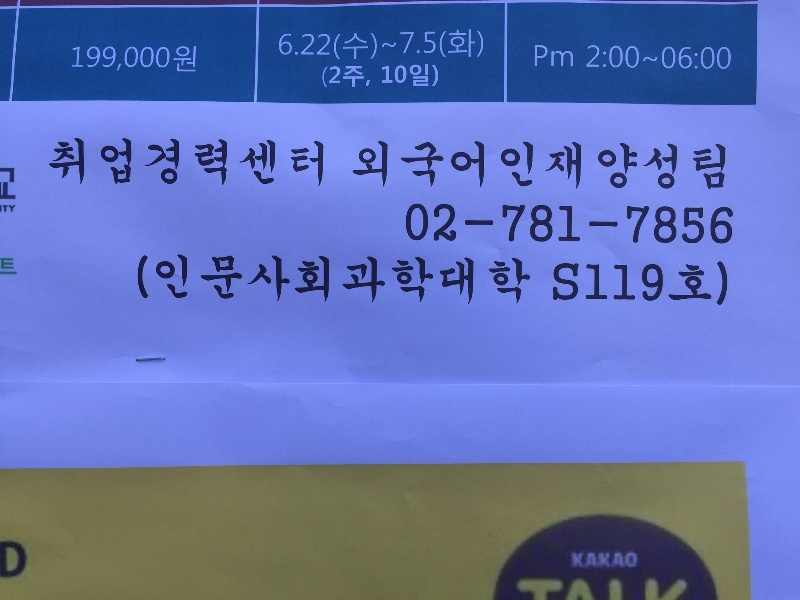text: (65, 137, 80, 189), (81, 137, 96, 189), (97, 137, 112, 189), (113, 137, 128, 189), (129, 137, 144, 189), (145, 137, 160, 189), (161, 137, 176, 189), (177, 137, 192, 189), (193, 137, 208, 189), (209, 137, 224, 189), (225, 137, 240, 189), (241, 137, 256, 189), (257, 137, 272, 189), (273, 137, 288, 189), (289, 137, 304, 189), (305, 137, 320, 189), (369, 140, 384, 192), (385, 140, 400, 192), (401, 140, 416, 192), (417, 140, 432, 192), (433, 140, 448, 192), (449, 140, 464, 192), (465, 140, 480, 192), (481, 140, 496, 192), (497, 140, 512, 192), (513, 140, 528, 192), (529, 140, 544, 192), (545, 140, 560, 192), (561, 140, 576, 192), (145, 254, 160, 305), (161, 254, 176, 305), (177, 254, 192, 305), (193, 254, 208, 305), (209, 254, 224, 305), (225, 254, 240, 305), (241, 254, 256, 305), (257, 254, 272, 305), (273, 254, 288, 305), (289, 254, 304, 305), (305, 254, 320, 305), (321, 254, 336, 305), (337, 254, 352, 305), (353, 254, 368, 305), (369, 254, 384, 305), (385, 254, 400, 305), (401, 254, 416, 305), (417, 254, 432, 305), (433, 254, 448, 305), (449, 254, 464, 305), (465, 254, 480, 305), (481, 254, 496, 305), (497, 254, 512, 305), (513, 254, 528, 305), (593, 142, 608, 191), (609, 142, 624, 191), (625, 142, 640, 191), (641, 142, 656, 191), (657, 142, 672, 191), (673, 142, 688, 191), (689, 142, 704, 191), (705, 142, 720, 191), (561, 262, 576, 308), (577, 262, 592, 308), (593, 262, 608, 308), (609, 262, 624, 308), (625, 262, 640, 308), (641, 262, 656, 308), (657, 262, 672, 308), (673, 262, 688, 308), (689, 262, 704, 308), (705, 262, 720, 308), (417, 201, 432, 246), (433, 201, 448, 246), (449, 201, 464, 246), (465, 201, 480, 246), (481, 201, 496, 246), (497, 201, 512, 246), (513, 201, 528, 246), (529, 201, 544, 246), (545, 201, 560, 246), (561, 201, 576, 246), (577, 201, 592, 246), (593, 201, 608, 246), (609, 201, 624, 246), (625, 201, 640, 246), (641, 201, 656, 246), (657, 201, 672, 246), (673, 201, 688, 246), (689, 201, 704, 246), (705, 201, 720, 246), (721, 201, 734, 246), (404, 201, 416, 246), (1, 542, 16, 578), (289, 28, 304, 61), (305, 28, 320, 61), (321, 28, 336, 61), (337, 28, 352, 61), (353, 28, 368, 61), (369, 28, 384, 61), (385, 28, 400, 61), (401, 28, 416, 61), (417, 28, 432, 61), (433, 28, 448, 61), (449, 28, 464, 61), (465, 28, 480, 61), (1, 168, 16, 200), (359, 140, 368, 192), (17, 542, 28, 578), (81, 46, 96, 72), (97, 46, 112, 72), (113, 46, 128, 72), (129, 46, 144, 72), (145, 46, 160, 72), (161, 46, 176, 72), (177, 46, 192, 72), (321, 64, 336, 89), (337, 64, 352, 89), (353, 64, 368, 89), (369, 64, 384, 89), (385, 64, 400, 89), (401, 64, 416, 89), (417, 64, 432, 89), (593, 45, 608, 70), (609, 45, 624, 70), (625, 45, 640, 70), (641, 45, 656, 70), (657, 45, 672, 70), (673, 45, 688, 70), (689, 45, 704, 70), (705, 45, 720, 70), (721, 262, 729, 308), (57, 137, 64, 189), (277, 28, 288, 61), (545, 44, 560, 68), (529, 576, 544, 600), (545, 576, 560, 600), (561, 576, 576, 600), (577, 576, 592, 600), (593, 576, 608, 600), (609, 576, 624, 600), (625, 576, 640, 600), (641, 576, 656, 600), (657, 576, 672, 600), (673, 576, 688, 600), (561, 44, 574, 68), (577, 140, 583, 192), (138, 254, 144, 305), (721, 45, 733, 70), (721, 142, 727, 191), (516, 576, 528, 600), (554, 262, 560, 308), (1, 258, 16, 275), (534, 44, 544, 68), (577, 552, 592, 568), (593, 552, 608, 568), (609, 552, 624, 568), (71, 46, 80, 72), (321, 137, 325, 189), (625, 552, 638, 568), (433, 64, 439, 89), (481, 28, 485, 61), (587, 45, 592, 70), (1, 205, 16, 213), (2, 205, 16, 213), (529, 254, 531, 305), (570, 552, 576, 568), (193, 46, 196, 72), (689, 576, 690, 600), (17, 258, 18, 275)
